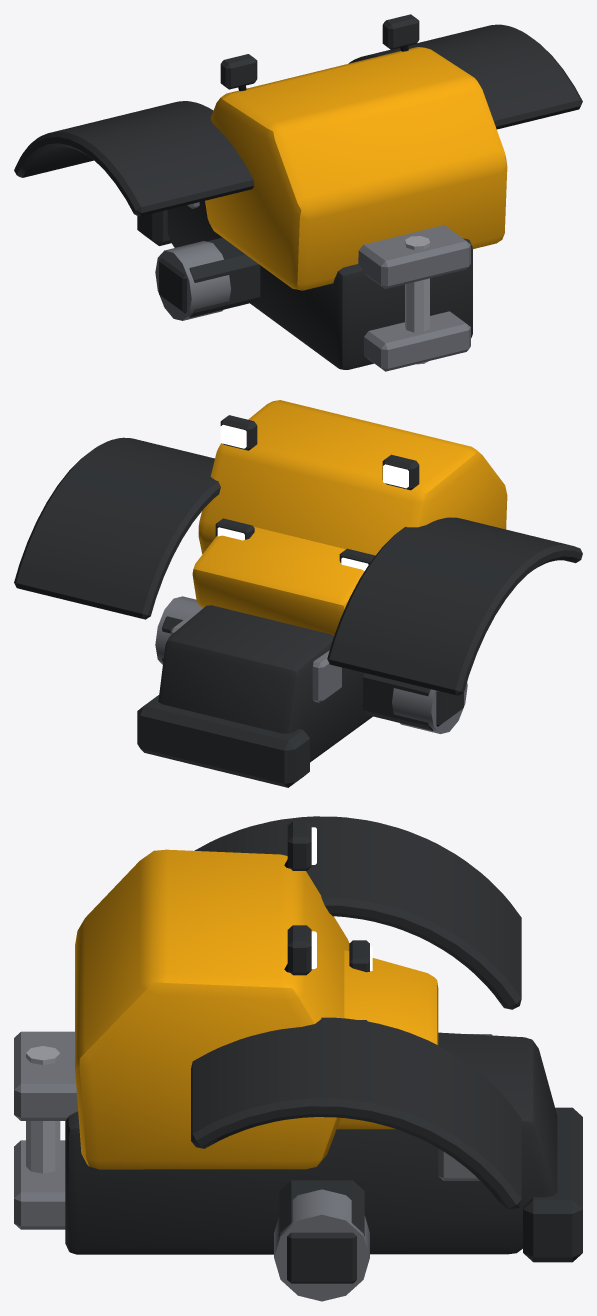
Rendered from front.glb.
3 renders of one model, top to bottom at view 1: azimuth 30°, elevation 25°; view 2: azimuth 150°, elevation 25°; view 3: azimuth 270°, elevation 25°, orthographic. The views are drawn at different scales.
Parts seen in each view (by area): view 1: FrontFrame; view 2: FrontFrame; view 3: FrontFrame.
Part boxes in pixels (x1,y1,x2,y2): FrontFrame: (14,14,582,371); FrontFrame: (14,400,582,787); FrontFrame: (14,816,582,1301).
Size of the model in its own units: 3.97 by 2.16 by 3.32.
